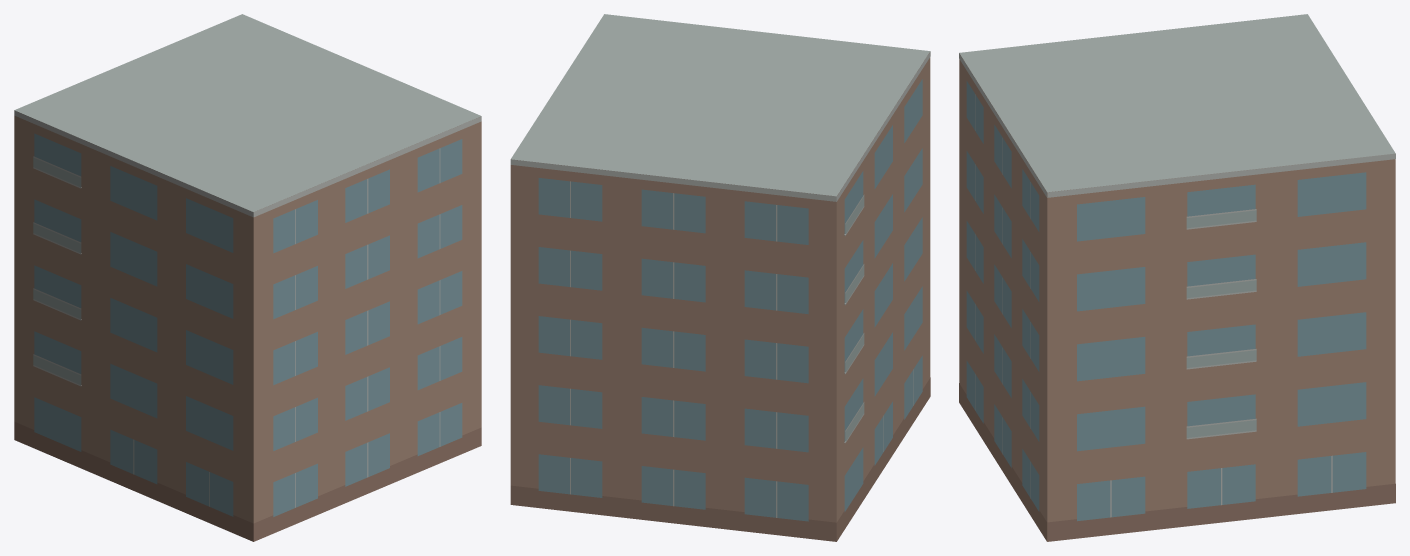
Rendered from survey-upis-32492550.glb.
The picture shows the model from 3 angles, left to right: view 1: azimuth 30°, elevation 25°; view 2: azimuth 150°, elevation 25°; view 3: azimuth 270°, elevation 25°; orthographic projection. The views are drawn at different scales.
Visible parts, largest first — view 1: survey-upis-32492550.tmp; view 2: survey-upis-32492550.tmp; view 3: survey-upis-32492550.tmp.
Part boxes in pixels (<box>): survey-upis-32492550.tmp: <box>14,14,481,541</box>; survey-upis-32492550.tmp: <box>510,14,930,541</box>; survey-upis-32492550.tmp: <box>959,14,1395,541</box>.
Size of the model in its own units: 16.69 by 15.25 by 17.27.
